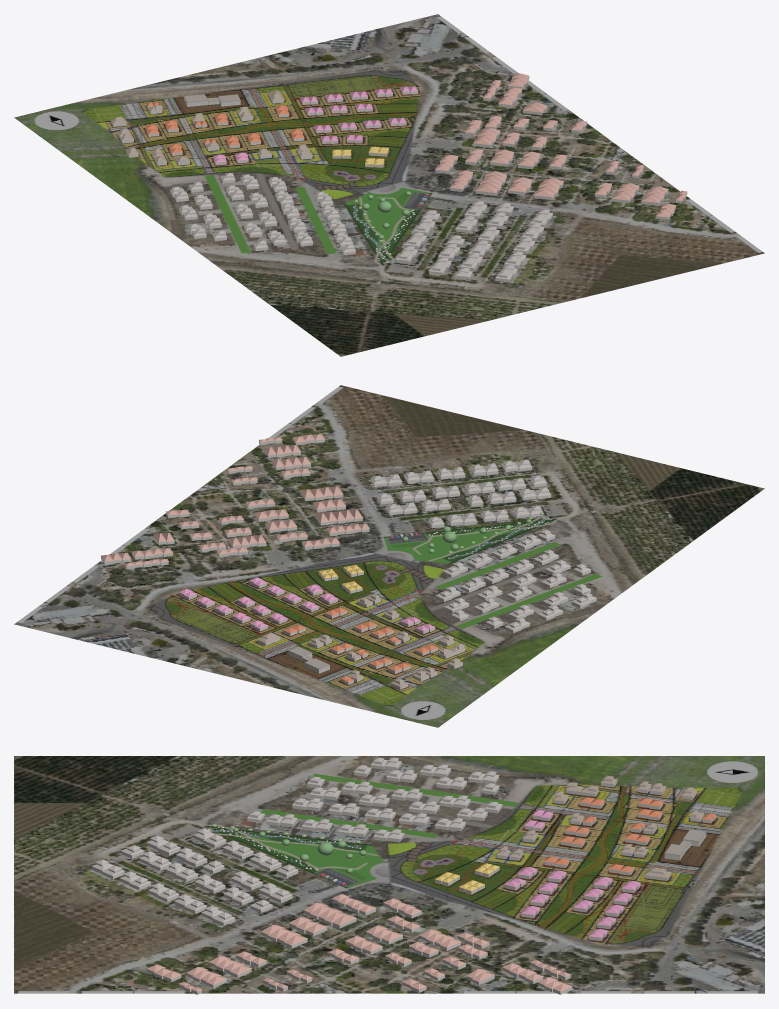
Rendered from afek_massing.glb.
The picture shows the model from 3 angles, top to bottom: view 1: azimuth 30°, elevation 25°; view 2: azimuth 150°, elevation 25°; view 3: azimuth 270°, elevation 25°; orthographic projection. The views are drawn at different scales.
Parts seen in each view (by area): view 1: aerial_ground; view 2: aerial_ground; view 3: aerial_ground.
Boxes of the visible parts, x1,y1,x2,y2 form: aerial_ground: [14, 14, 764, 356]; aerial_ground: [14, 385, 764, 727]; aerial_ground: [14, 756, 764, 993].
Size of the model in its own units: 484 by 13.33 by 642.
1 material, 1 textured.
